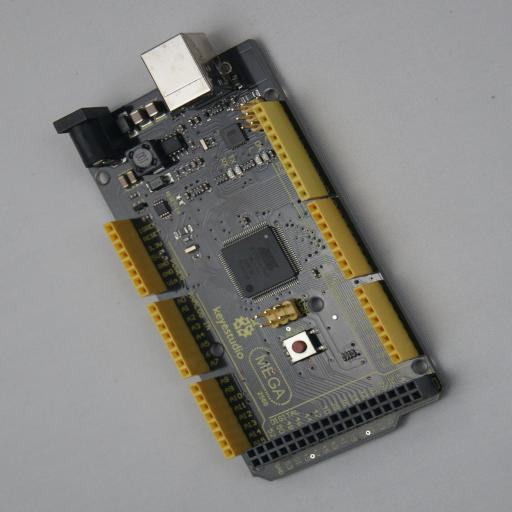Arduino Mega 2560 -Black and Yellow-: (53, 32, 455, 482)
